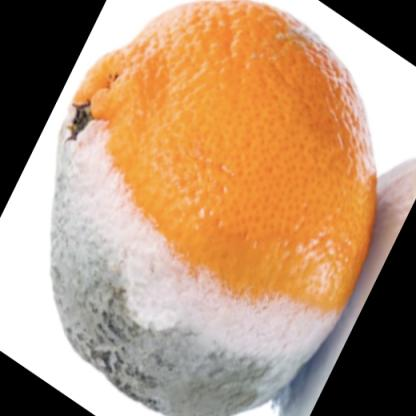rotten: (54, 2, 378, 416)
